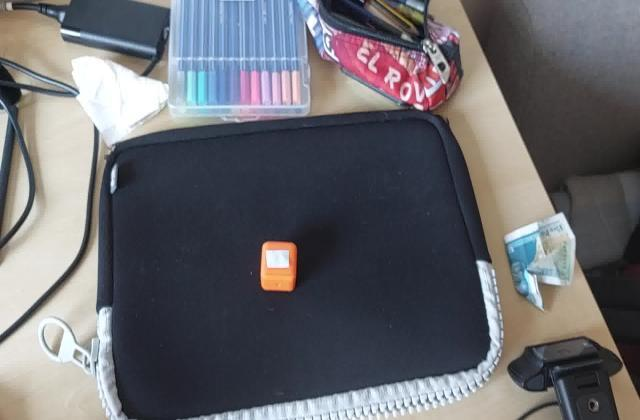sticker: (260, 240, 298, 294)
white: (264, 248, 294, 270)
